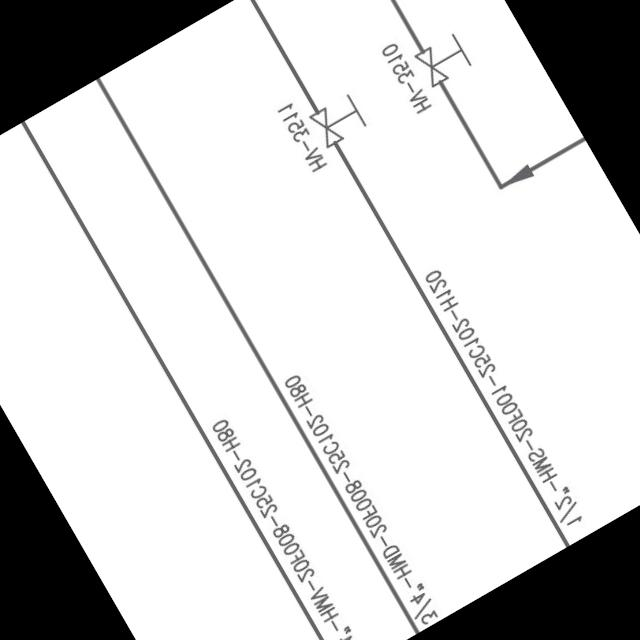HVWT: (406, 26, 479, 96), (304, 86, 374, 156)
